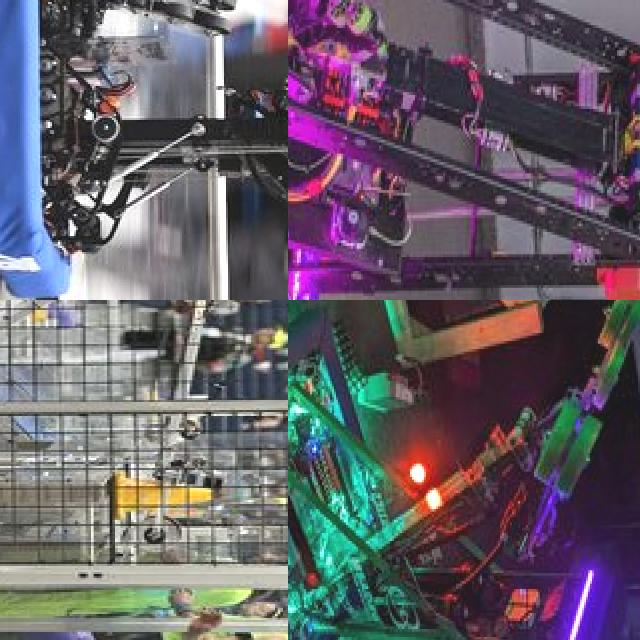FRC-Robots: (288, 300, 640, 640), (288, 0, 640, 300), (0, 0, 288, 300), (0, 300, 239, 477)
